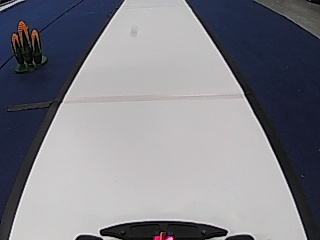corn: (7, 20, 48, 73)
